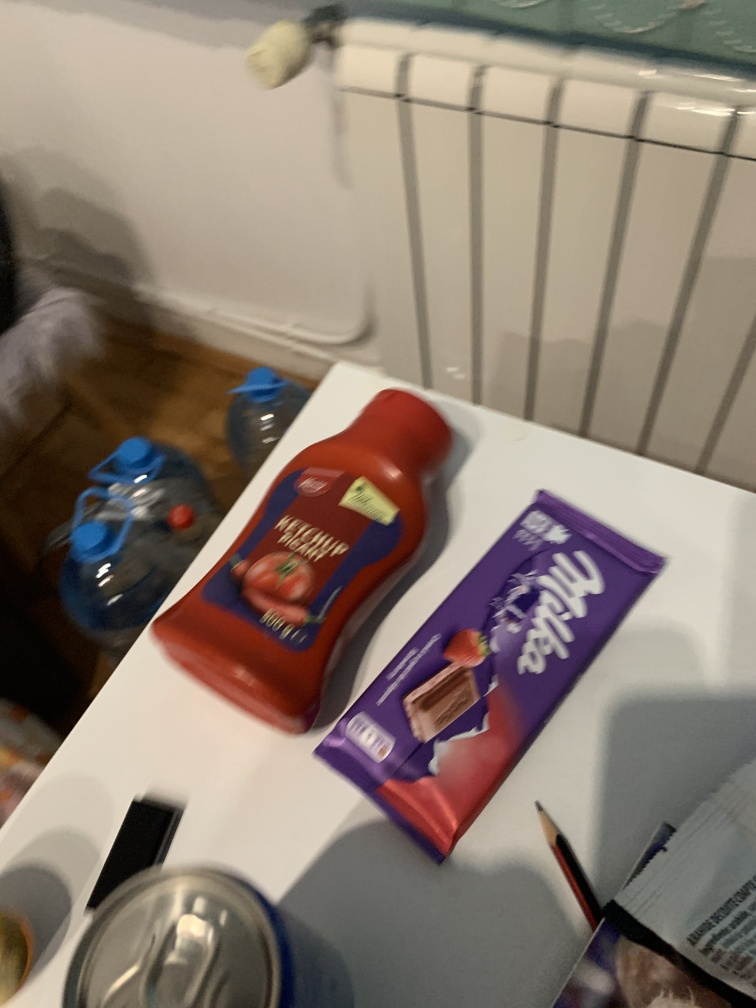ketchup: (148, 379, 462, 737)
milka: (315, 480, 672, 867)
